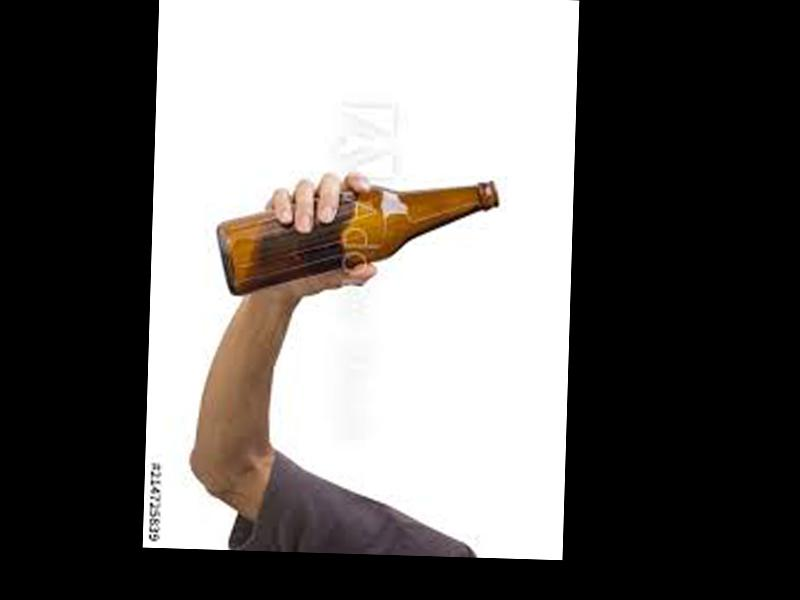Beer: (214, 170, 500, 304)
